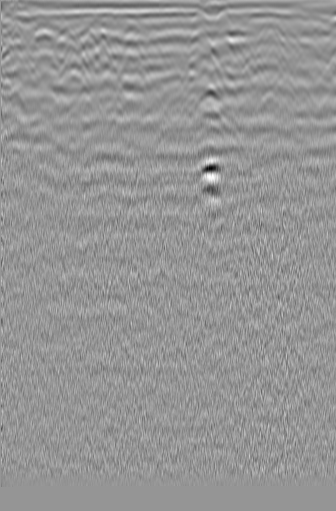가스: (195, 156, 229, 200)
상수: (290, 36, 331, 74)
오수: (5, 19, 30, 64)
우수: (141, 33, 170, 61)
